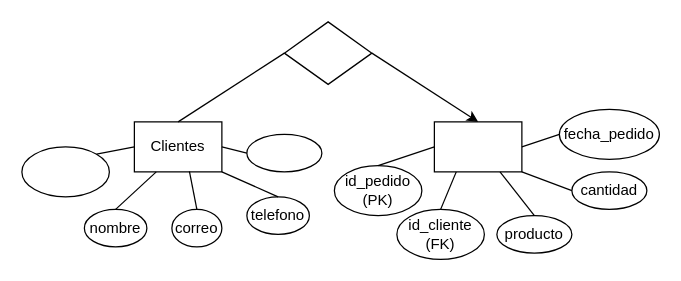
Some shapes in this 681 by 281 pixel diagram are drawn without their labels. The centre of each missing label's shape, as x and y in pixels:
"direccion" belongs at (284,152).
"id_cliente (PK)" belongs at (65,171).
"Pedidos" belongs at (477,146).
"realizan 1:N" belongs at (327,52).
